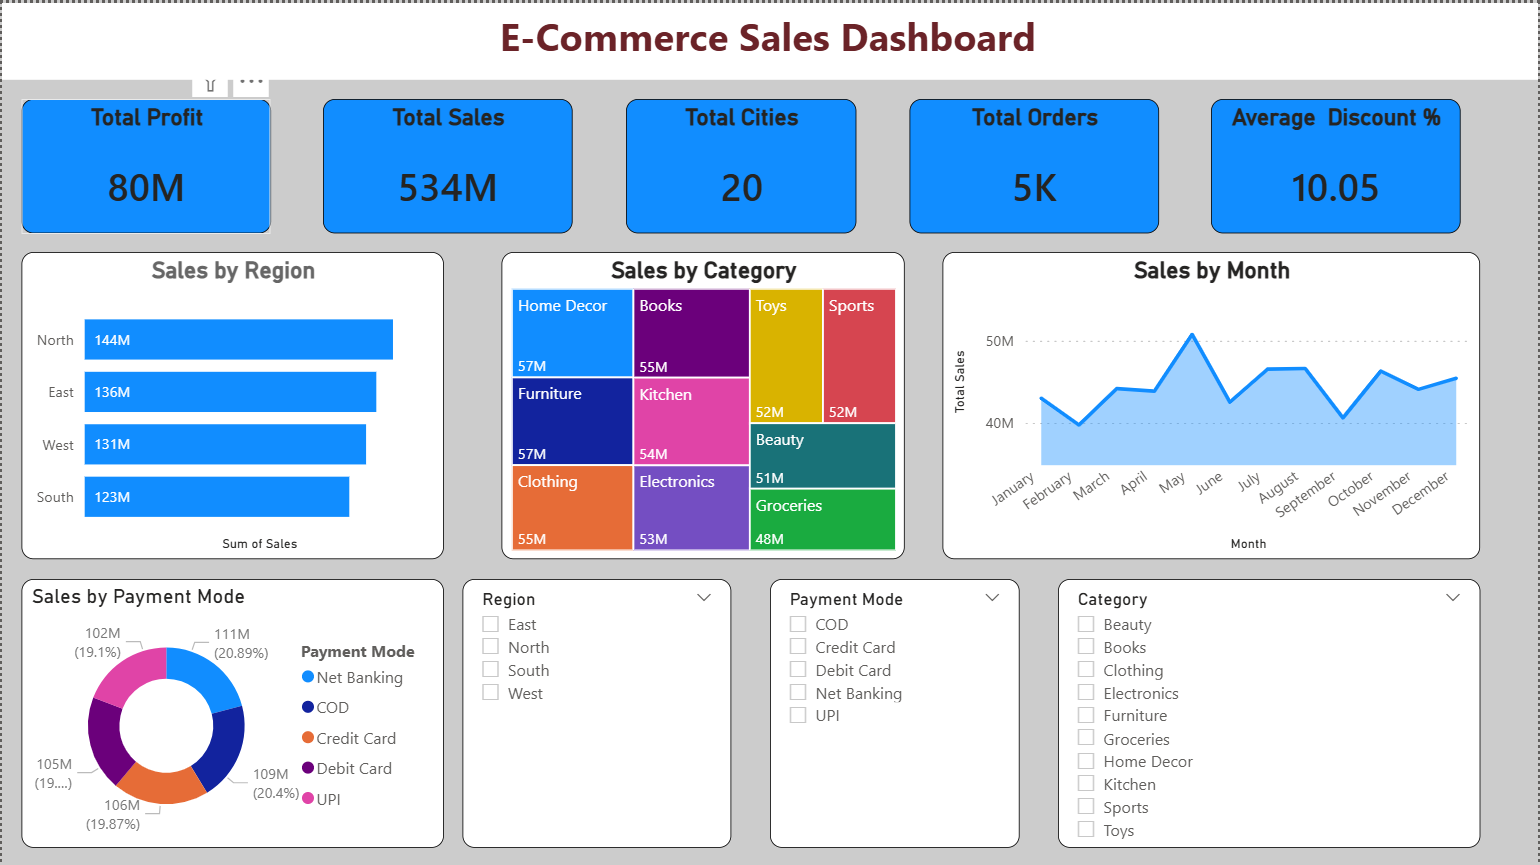

Layout of this report page (visuals, bound fields, positions):
{"tool":"powerbi","page":{"name":"Executive Dashboard ","canvas":[1280,720],"ordinal":0},"visuals":[{"type":"cardVisual","title":"Total Sales","fields":{"Data":["ecommerce_data - ecommerce_data.Total Sales"]},"box":[268,80,208,112],"z":0},{"type":"cardVisual","title":"Total Profit","fields":{"Data":["ecommerce_data - ecommerce_data.Total Profit"]},"box":[16,80,208,112],"z":1000},{"type":"cardVisual","title":"Total Orders","fields":{"Data":["ecommerce_data - ecommerce_data.Total Orders"]},"box":[756,80,208,112],"z":2000},{"type":"cardVisual","title":"Average  Discount %","fields":{"Data":["ecommerce_data - ecommerce_data.Average Discount"]},"box":[1008,80,208,112],"z":3000},{"type":"textbox","box":[0,0,1280,64],"z":4000},{"type":"cardVisual","title":"Total Cities","fields":{"Data":["ecommerce_data - ecommerce_data.Total Cities"]},"box":[520,80,192,112],"z":5000},{"type":"clusteredBarChart","title":"Sales by Region","fields":{"Category":["ecommerce_data - ecommerce_data.Region"],"Y":["Sum(ecommerce_data - ecommerce_data.Sales)"]},"box":[16,208,352,256],"z":6000},{"type":"donutChart","title":" Sales by Payment Mode","fields":{"Y":["Sum(ecommerce_data - ecommerce_data.Sales)"],"Category":["ecommerce_data - ecommerce_data.Payment Mode"]},"box":[16,480,352,224],"z":7000},{"type":"treemap","title":" Sales by Category","fields":{"Group":["ecommerce_data - ecommerce_data.Category"],"Values":["Sum(ecommerce_data - ecommerce_data.Sales)"]},"box":[416,208,336,256],"z":8000},{"type":"lineChart","title":"Sales by Month","fields":{"Category":["ecommerce_data - ecommerce_data.Order Date.Variation.Date Hierarchy.Month"],"Y":["ecommerce_data - ecommerce_data.Total Sales"]},"box":[784,208,448,256],"z":9000},{"type":"slicer","title":"Region","fields":{"Values":["ecommerce_data - ecommerce_data.Region"]},"box":[384,480,224,224],"z":10000},{"type":"slicer","fields":{"Values":["ecommerce_data - ecommerce_data.Payment Mode"]},"box":[640,480,208,224],"z":11000},{"type":"slicer","fields":{"Values":["ecommerce_data - ecommerce_data.Category"]},"box":[880,480,352,224],"z":12000}]}

Visuals, with their boxes in screenshot pixels (x1, y1, x2, y2), scaled from the page's 1280x720 canvas onto the 1540x865 screenshot:
"Total Sales" cardVisual: <box>322,96,573,231</box>
"Total Profit" cardVisual: <box>19,96,270,231</box>
"Total Orders" cardVisual: <box>910,96,1160,231</box>
"Average  Discount %" cardVisual: <box>1213,96,1463,231</box>
textbox: <box>0,0,1539,77</box>
"Total Cities" cardVisual: <box>626,96,857,231</box>
"Sales by Region" clusteredBarChart: <box>19,250,443,557</box>
" Sales by Payment Mode" donutChart: <box>19,577,443,846</box>
" Sales by Category" treemap: <box>500,250,905,557</box>
"Sales by Month" lineChart: <box>943,250,1482,557</box>
"Region" slicer: <box>462,577,732,846</box>
slicer - ecommerce_data - ecommerce_data.Payment Mode: <box>770,577,1020,846</box>
slicer - ecommerce_data - ecommerce_data.Category: <box>1059,577,1482,846</box>
